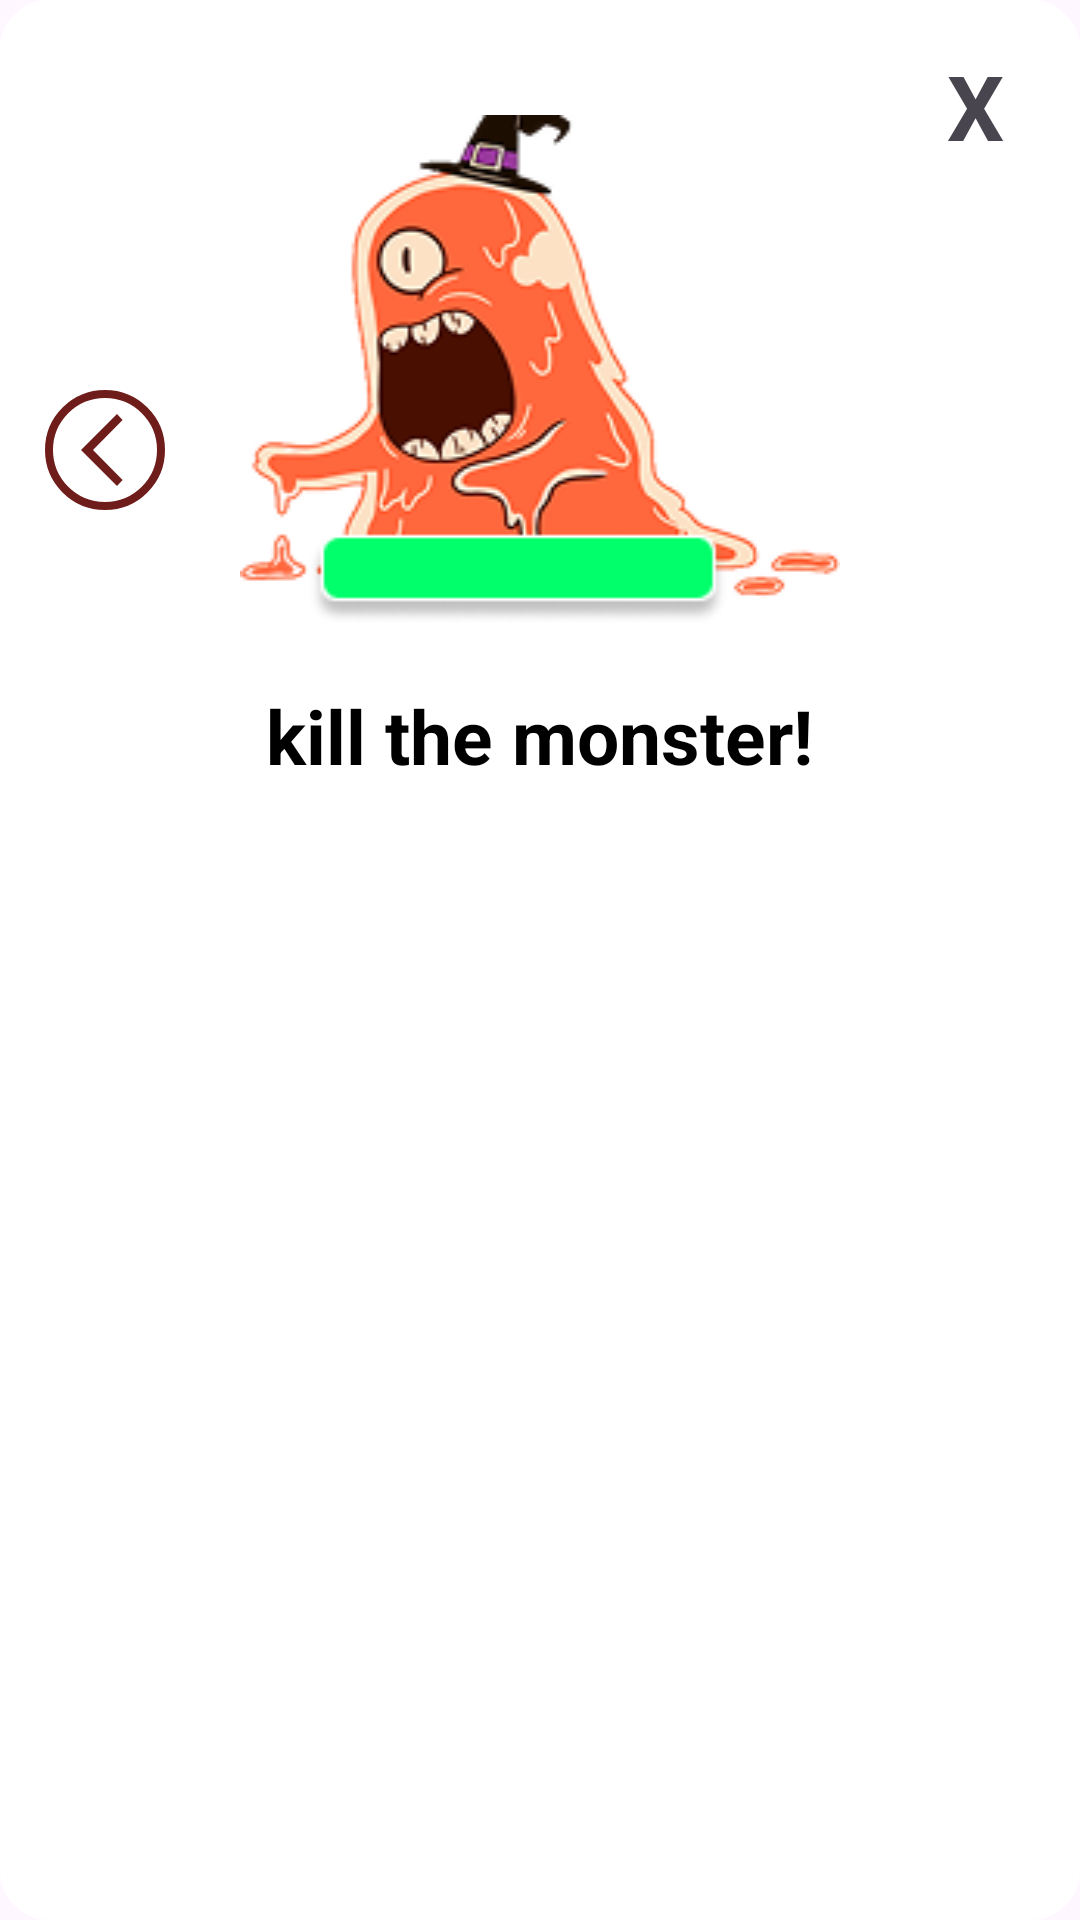

Locate icon controls on the screen. Image size 1080x1920, boxes as (x1, y1, x2, y2).
previous: (45, 390, 165, 510)
